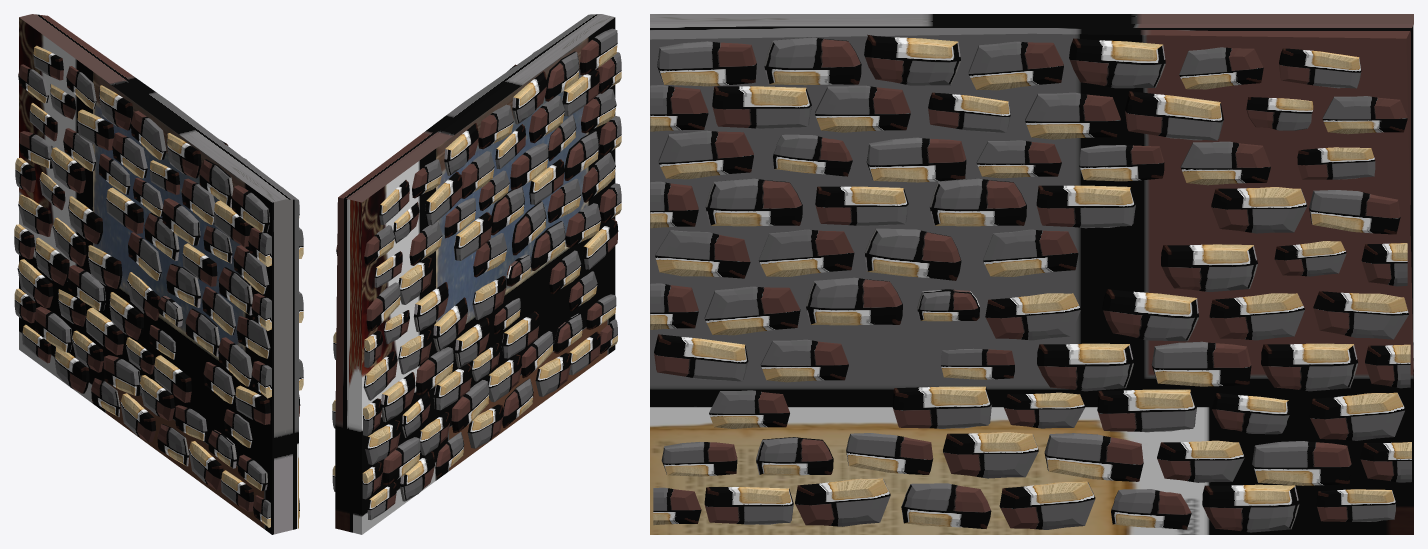
File: broken_FlaskSquare.fbx_floor3.fbx_Test_walls.fbx
The picture shows the model from 3 angles, left to right: view 1: azimuth 30°, elevation 25°; view 2: azimuth 150°, elevation 25°; view 3: azimuth 270°, elevation 25°; orthographic projection. The views are drawn at different scales.
Visible parts, largest first — view 1: Cube.002; view 2: Cube.002; view 3: Cube.002.
Part boxes in pixels (x1,y1,x2,y2): Cube.002: (14, 14, 303, 534); Cube.002: (332, 14, 621, 534); Cube.002: (650, 14, 1413, 534).
Bounding box in the file's own units: 42.36 × 344 × 475.
